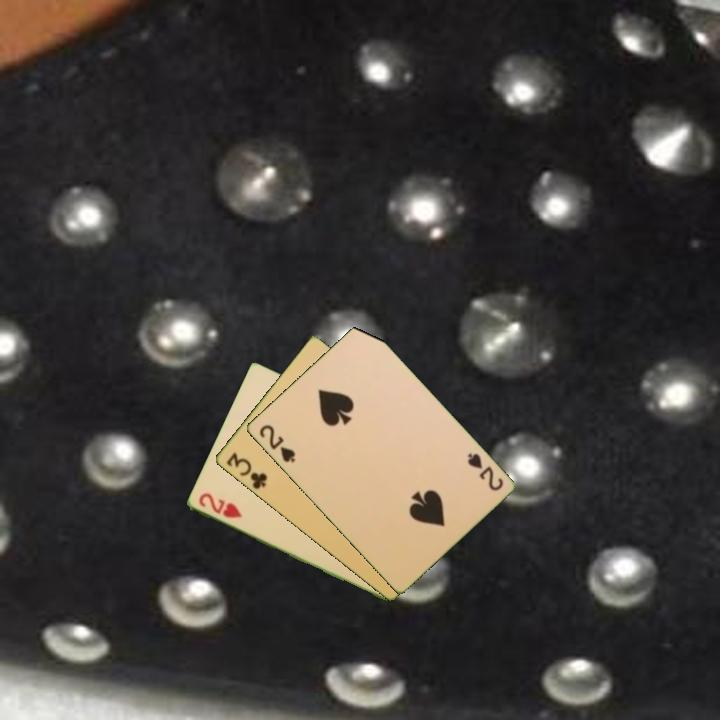2h: (195, 489, 245, 521)
2s: (255, 421, 298, 466), (463, 450, 506, 494)
3c: (223, 449, 270, 492)
